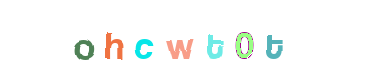0: (189, 0, 269, 80)
C: (103, 0, 183, 80)
H: (96, 0, 176, 80)
O: (44, 0, 124, 80)
T: (142, 0, 222, 80), (200, 0, 280, 80)
W: (139, 0, 219, 80)
